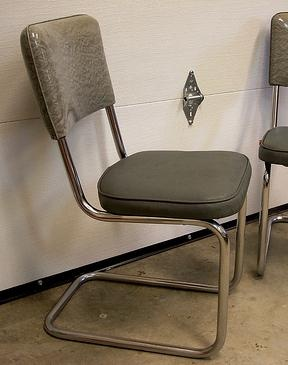obstacle: (21, 14, 250, 357)
